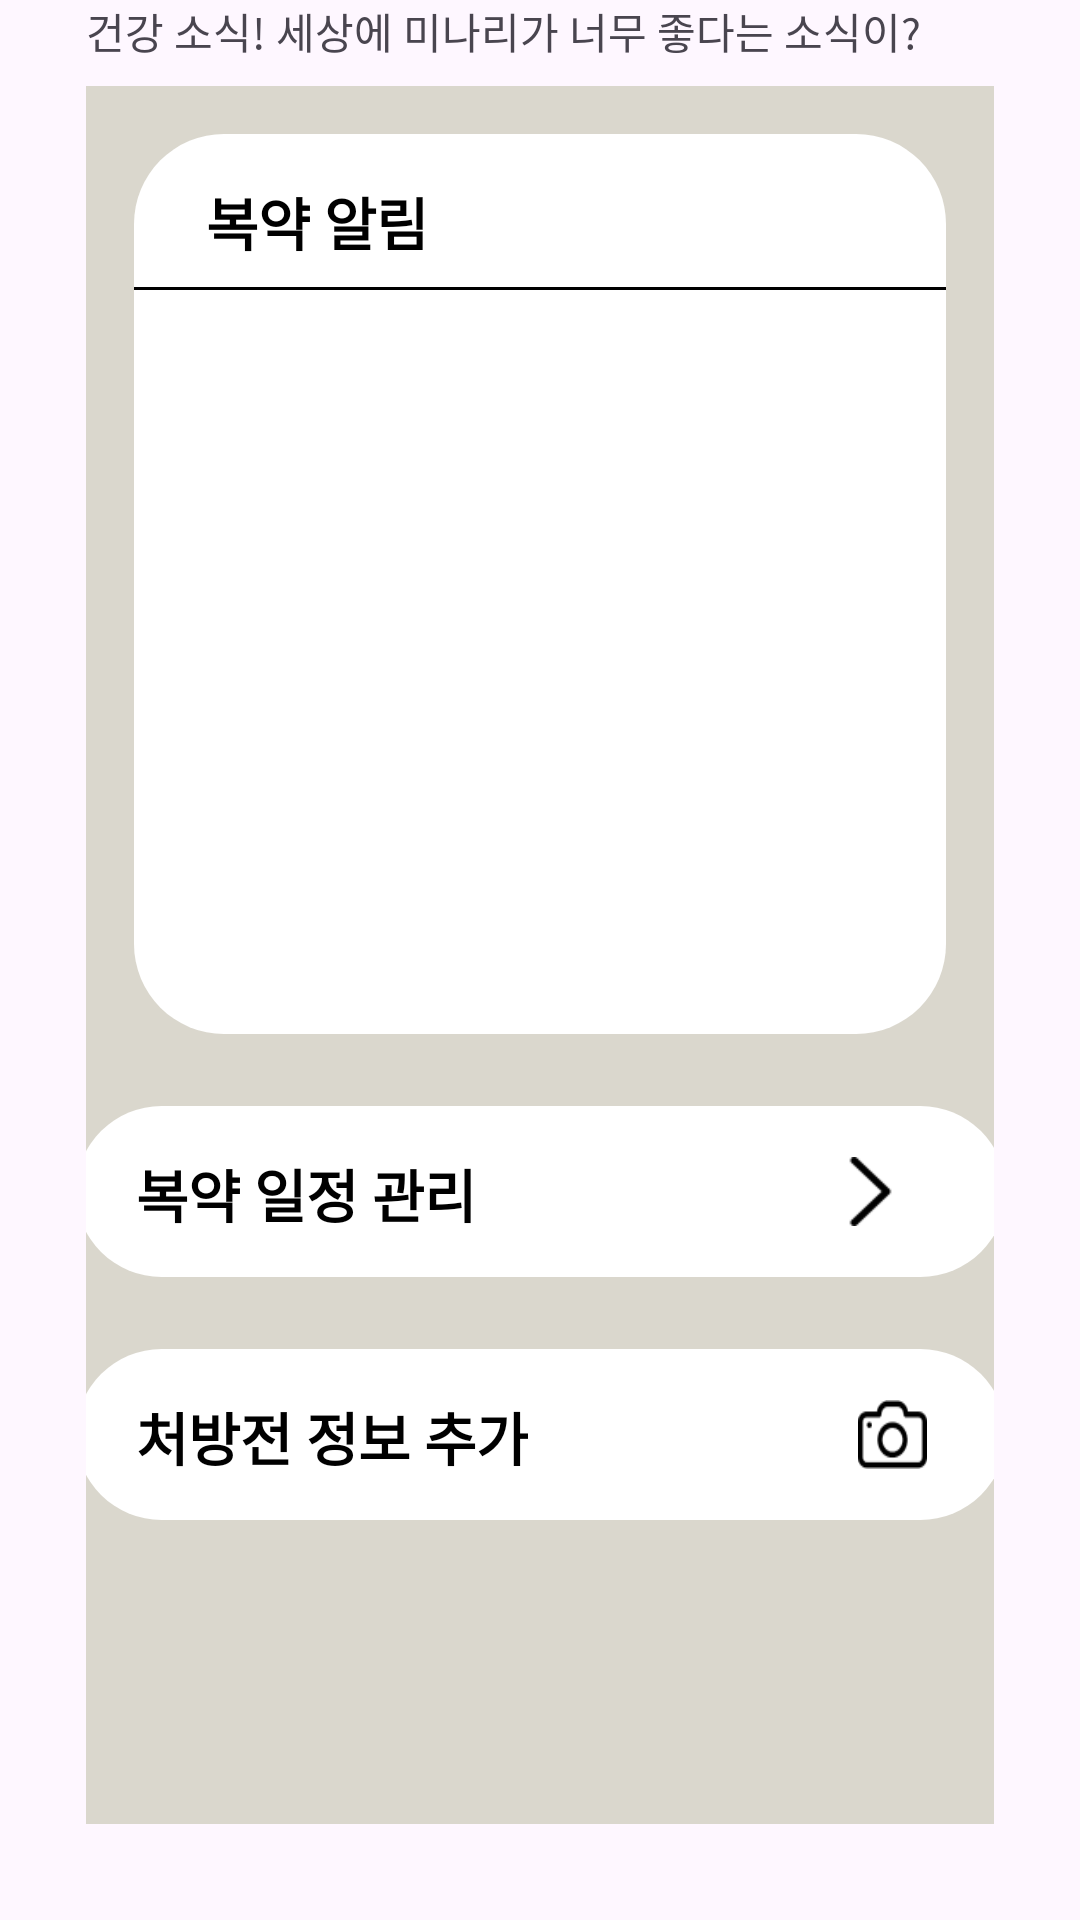

Point at icon controls on the screen. Image size 1080×1920, points as (x=x, y=y).
dosage camera: (x=892, y=1434)
dosage go: (x=870, y=1191)
